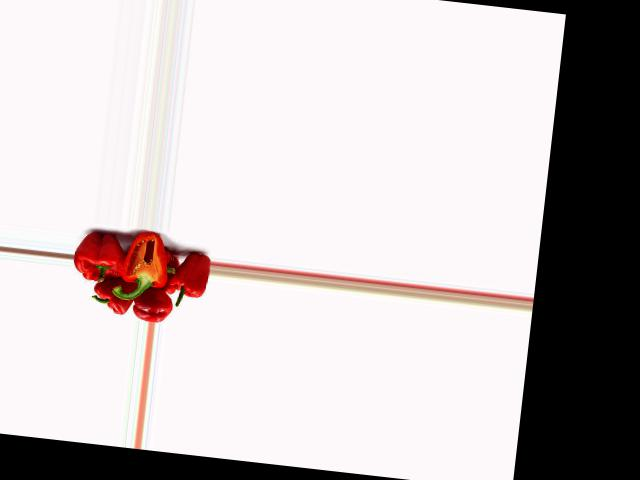bell_pepper: (90, 277, 137, 316)
